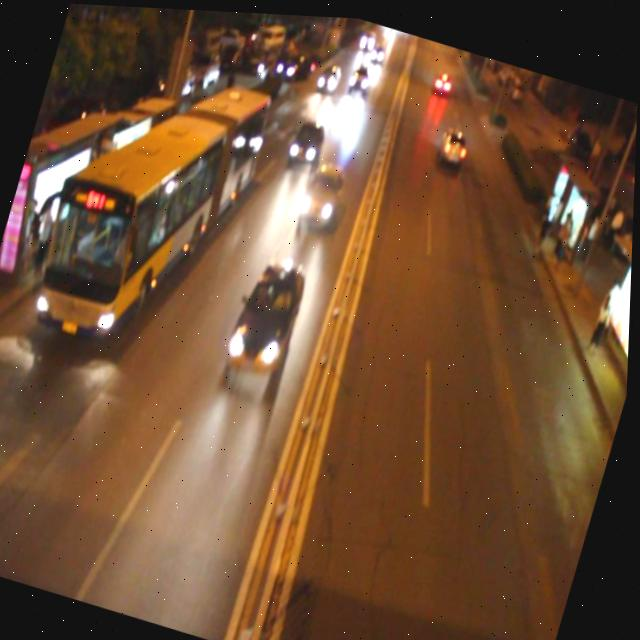car: (222, 246, 314, 378), (297, 152, 351, 227), (286, 110, 330, 167), (436, 117, 472, 162), (315, 55, 344, 95), (347, 56, 374, 89)
van: (23, 35, 269, 364)
